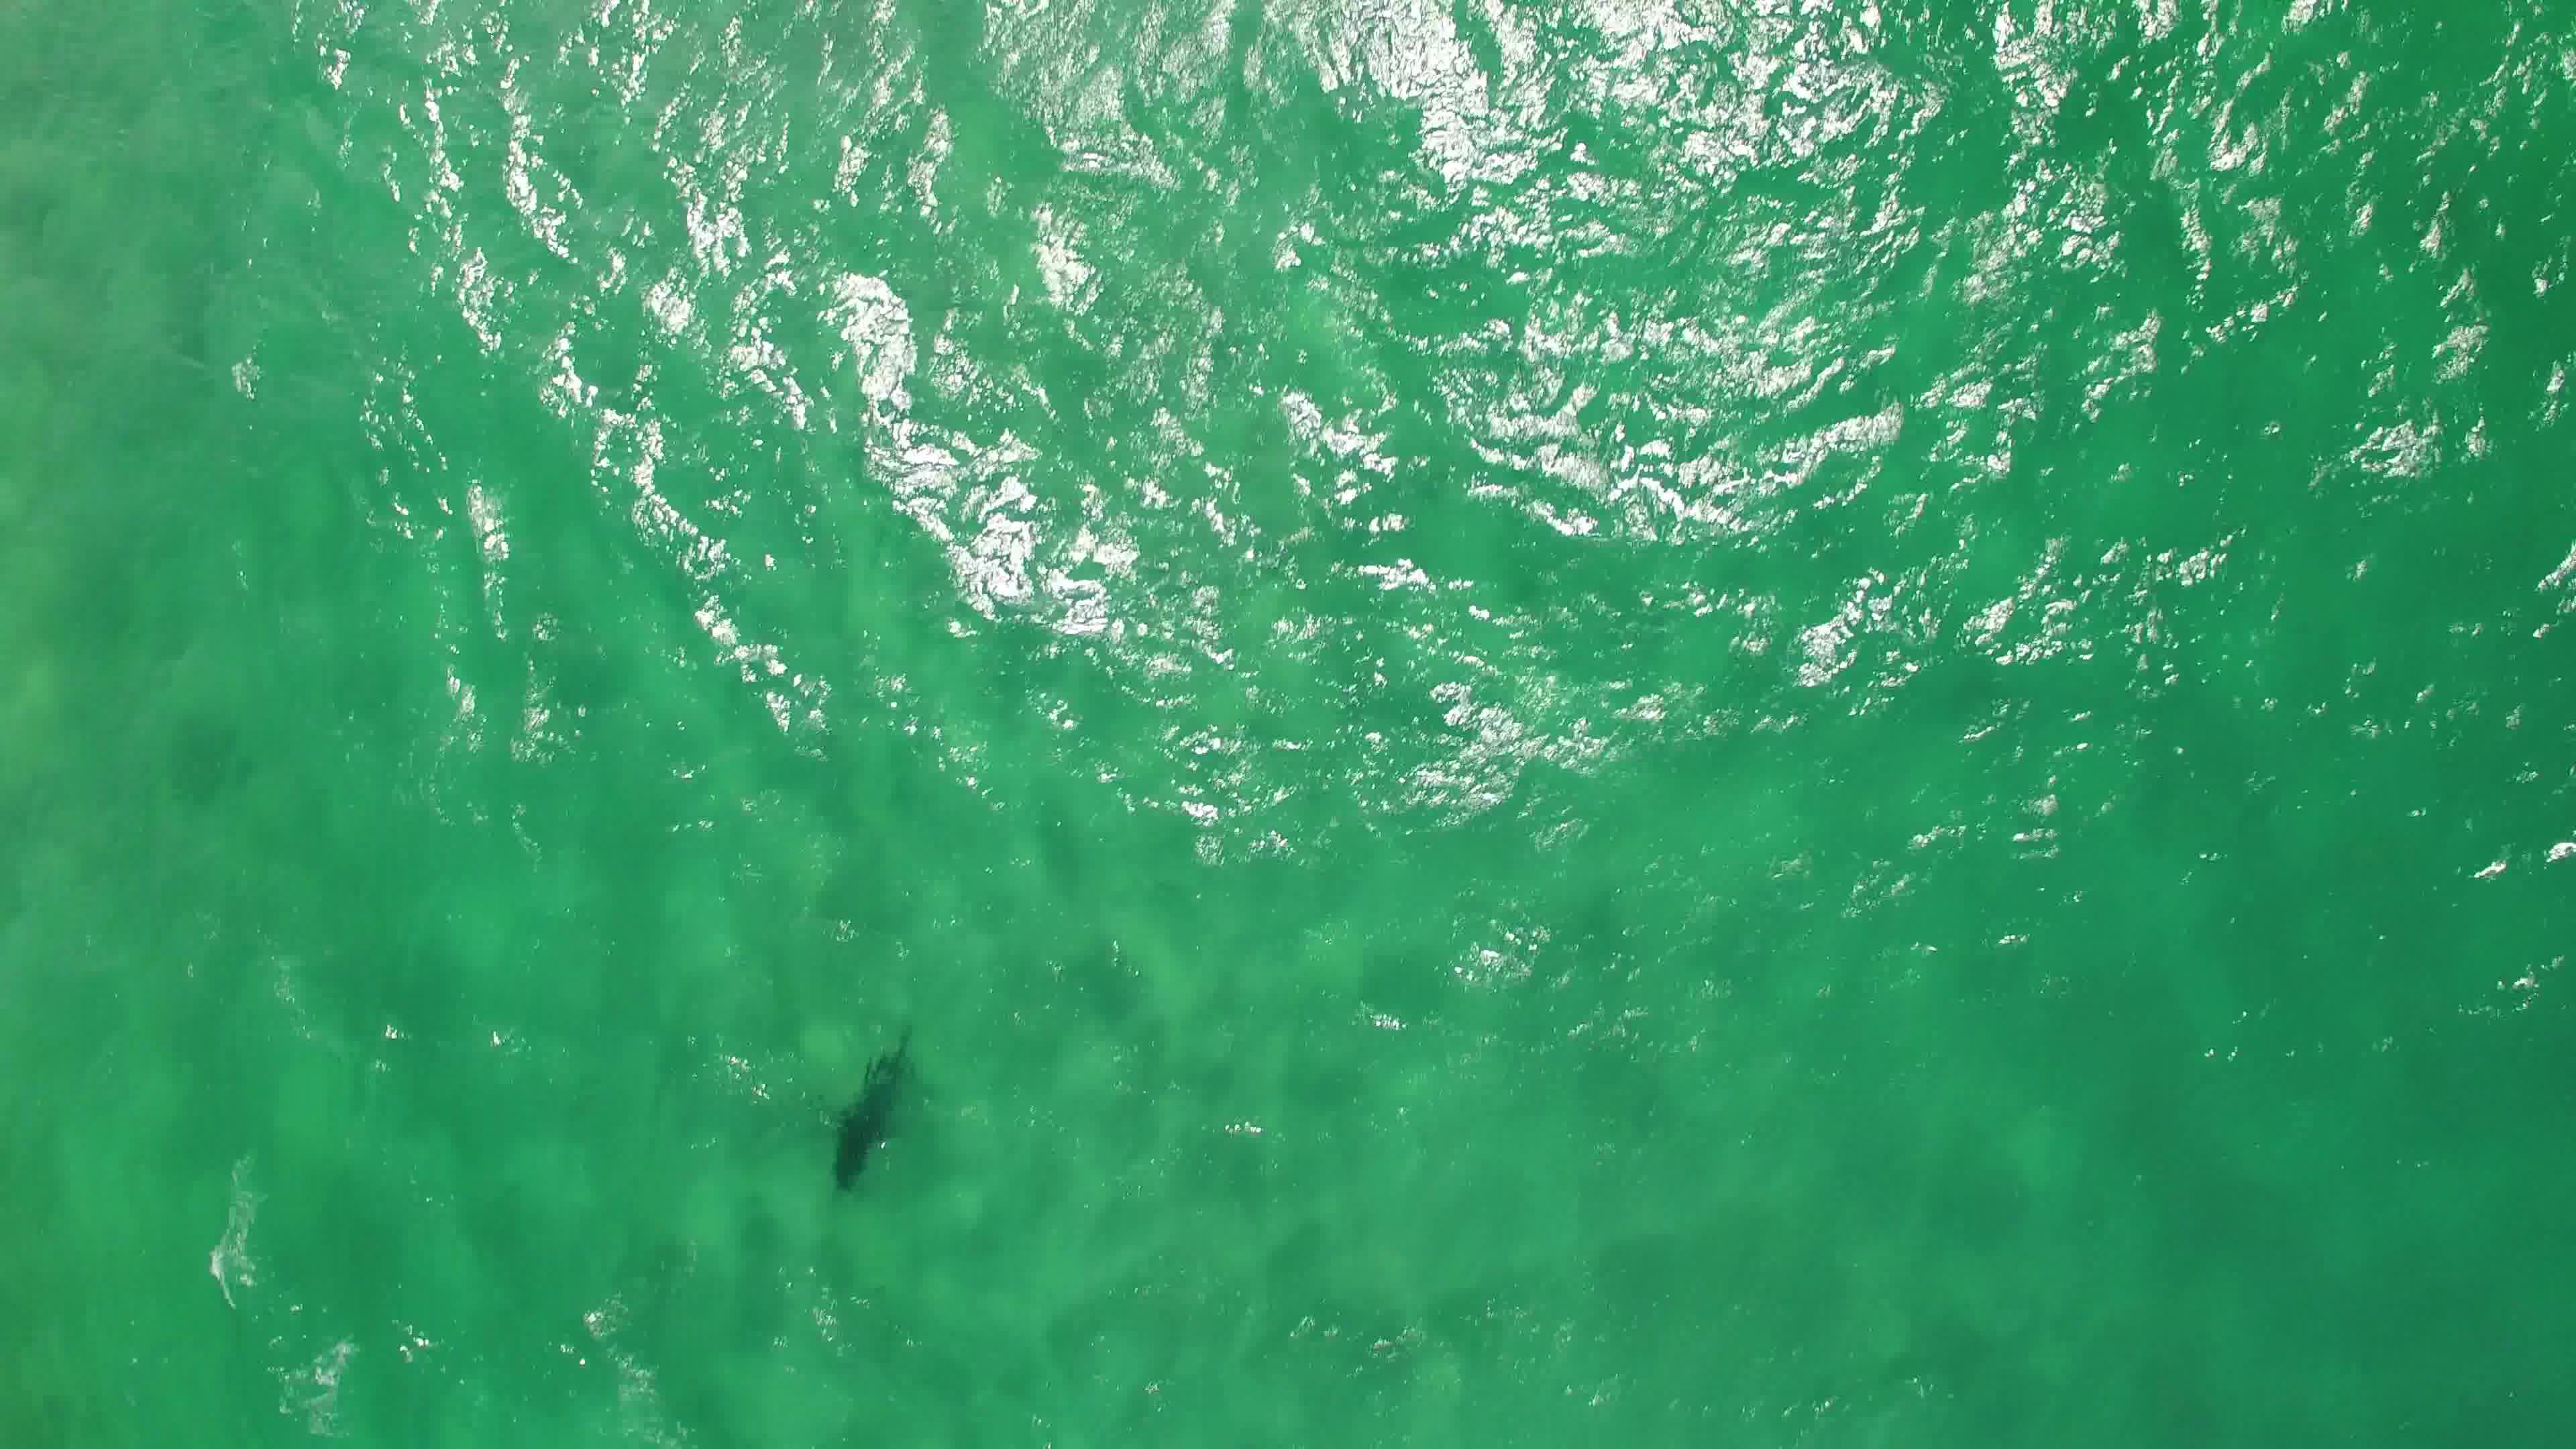shark: (821, 1024, 922, 1200)
